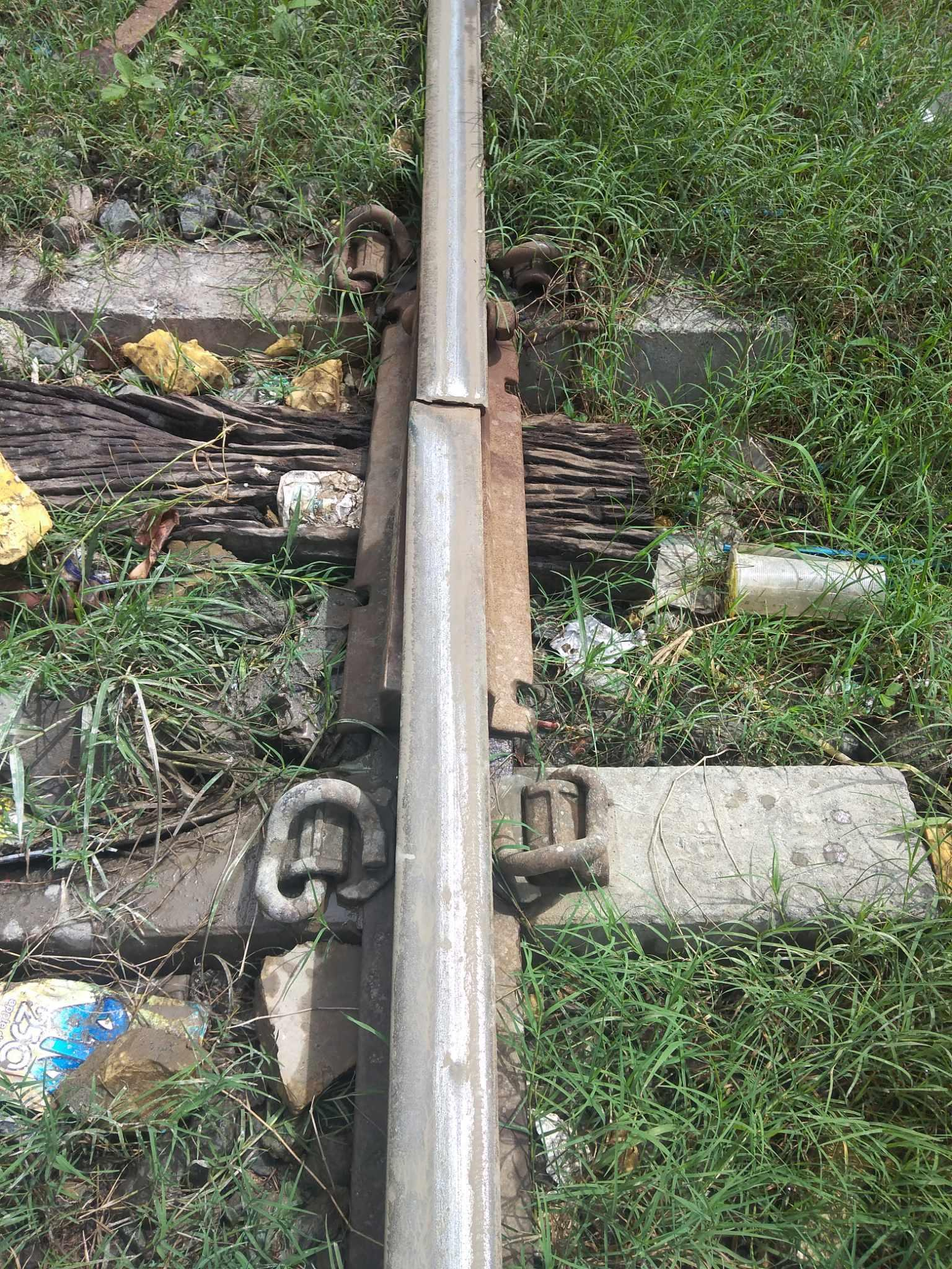railway-gap: (380, 327, 517, 472)
